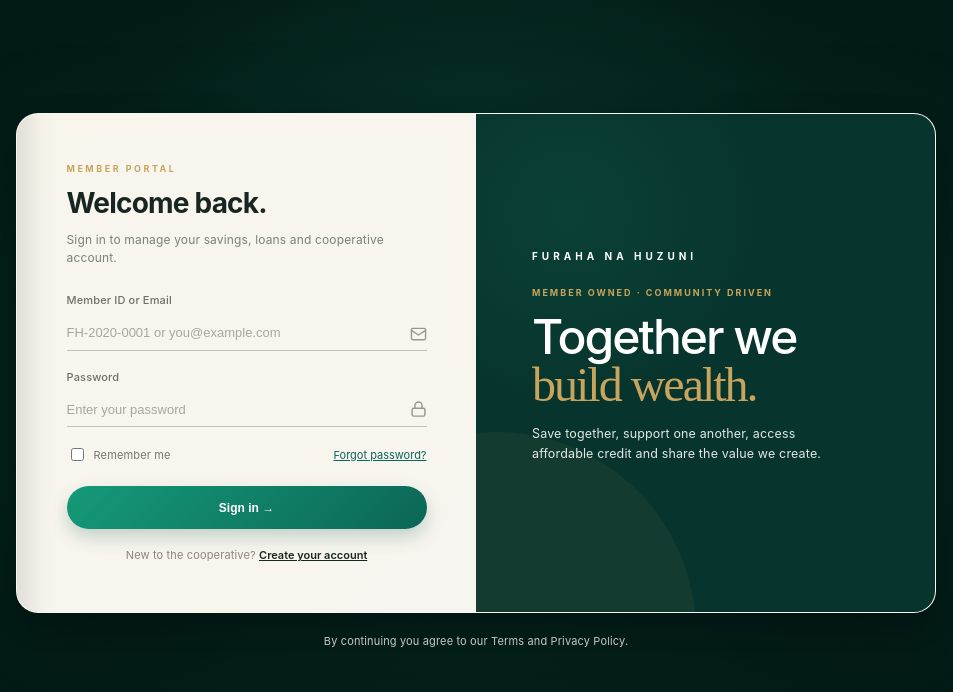
Test: AuthPage › defaults to sign-in and can switch to sign-up and back
Expected: the heading "Welcome back." is shown, top-left (66, 186), bottom-right (267, 220)
Click the button "Create your account". click: (313, 556)
box: top-left (259, 547), bottom-right (367, 564)
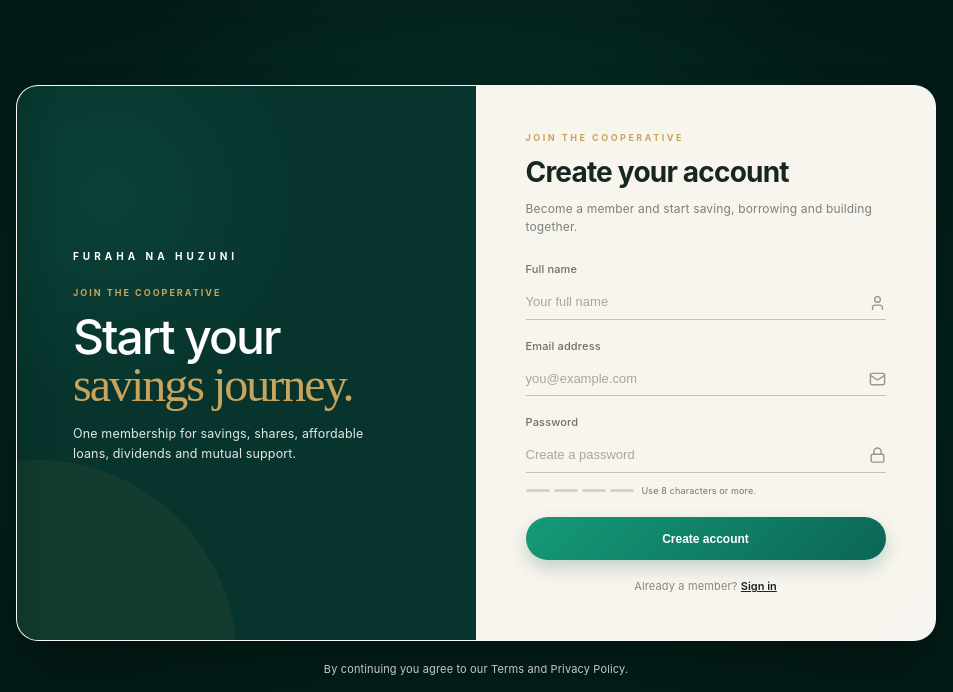
Now the heading "Create your account" is shown, box top-left (526, 155), bottom-right (789, 189)
Click the button "Sign in". click: (759, 587)
box: top-left (741, 578), bottom-right (777, 595)
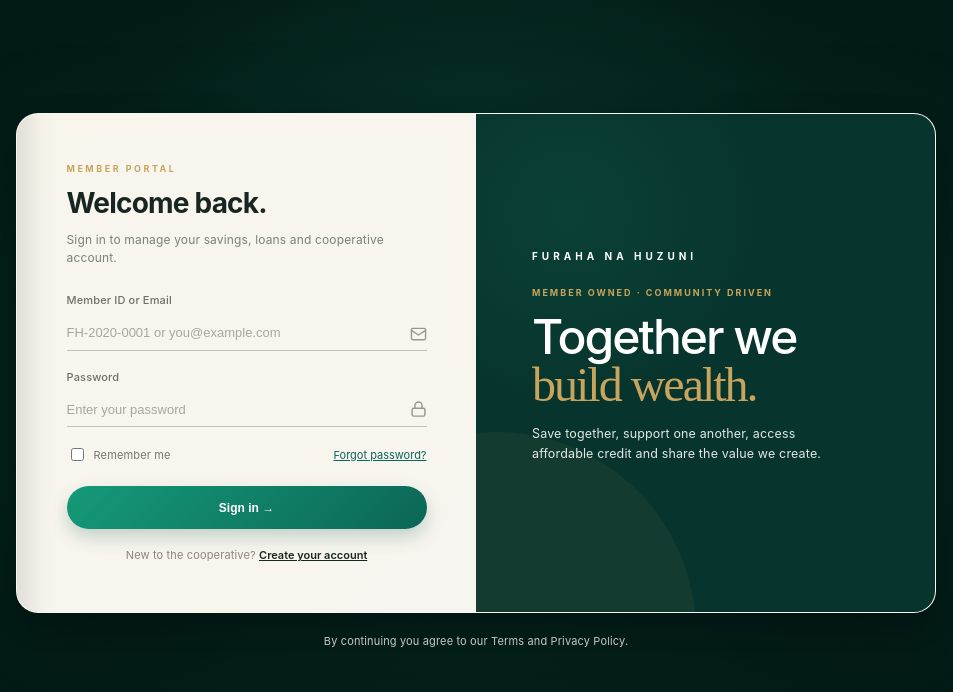
Now the heading "Welcome back." is shown, box top-left (66, 186), bottom-right (267, 220)
